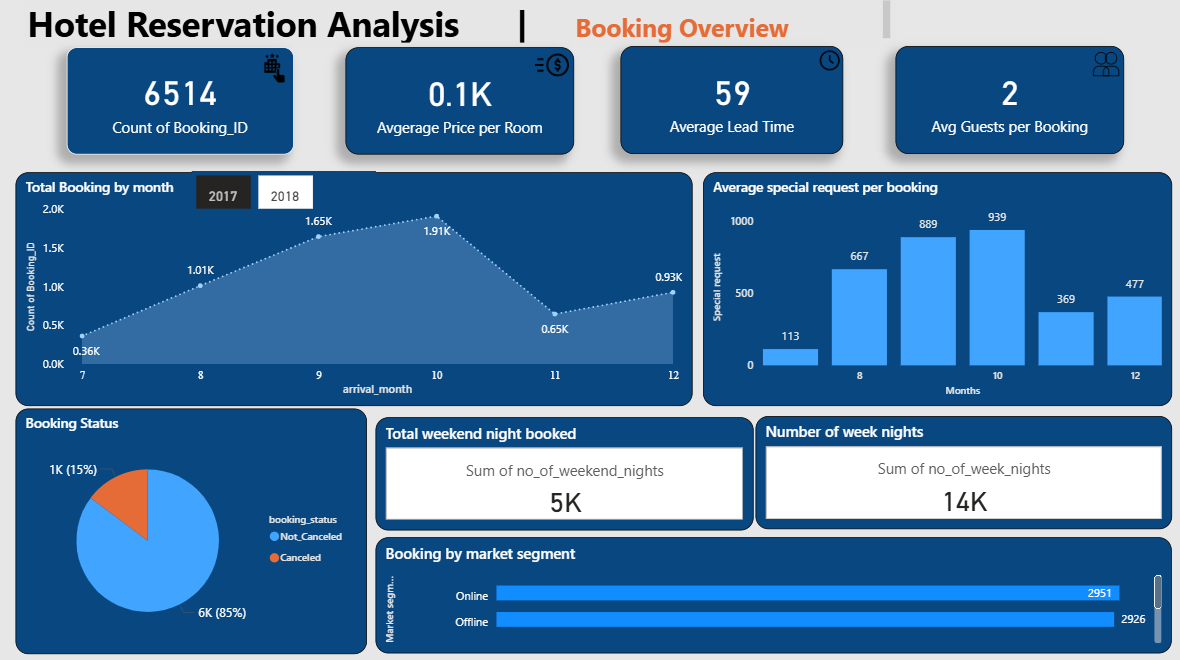

What the dashboard file says about the page in this screenshot:
{"tool":"powerbi","page":{"name":"Booking","canvas":[1280,720],"ordinal":0},"visuals":[{"type":"textbox","box":[26.9,0,942.8,55],"z":0},{"type":"card","fields":{"Values":["CountNonNull(Hotel Reservation Analysis.Booking_ID)"]},"box":[74.6,55,245.8,116.2],"z":1000},{"type":"card","fields":{"Values":["Hotel Reservation Analysis.Avgerage Price per Room"]},"box":[375.4,55,247,116.2],"z":2000},{"type":"image","box":[531.9,51.4,132.1,46.5],"z":3000},{"type":"card","fields":{"Values":["Hotel Reservation Analysis.Average Lead Time"]},"box":[673.4,54.4,240.5,116.5],"z":4000},{"type":"image","box":[867.1,54.4,63.3,31.6],"z":5000},{"type":"card","fields":{"Values":["Hotel Reservation Analysis.Avg Guests per Booking"]},"box":[969.6,54.4,246.8,116.5],"z":6000},{"type":"image","box":[258,55,81.9,45.2],"z":7000},{"type":"lineChart","title":"Total Booking by month","fields":{"Category":["Hotel Reservation Analysis.arrival_month"],"Y":["CountNonNull(Hotel Reservation Analysis.Booking_ID)"]},"box":[19,189.9,731.6,253.2],"z":8000},{"type":"advancedSlicerVisual","fields":{"Values":["Hotel Reservation Analysis.arrival_year"]},"box":[209.1,189.5,199.3,46.5],"z":9000},{"type":"image","box":[1116.5,54.4,153.2,39.2],"z":10000},{"type":"image","box":[1126.6,54.4,153.2,39.2],"z":11000},{"type":"pieChart","title":"Booking Status","fields":{"Y":["CountNonNull(Hotel Reservation Analysis.Booking_ID)"],"Category":["Hotel Reservation Analysis.booking_status"]},"box":[19.6,446.3,380.3,265.4],"z":12000},{"type":"columnChart","title":"Average special request per booking","fields":{"Y":["Sum(Hotel Reservation Analysis.no_of_special_requests)"],"Category":["Hotel Reservation Analysis.arrival_month"]},"box":[762,189.9,507.6,253.2],"z":13000},{"type":"cardVisual","title":"Total weekend night booked  ","fields":{"Data":["Sum(Hotel Reservation Analysis.no_of_weekend_nights)"]},"box":[408.4,454.9,408.4,122.3],"z":14000},{"type":"cardVisual","title":"Number of week nights","fields":{"Data":["Sum(Hotel Reservation Analysis.no_of_week_nights)"]},"box":[819,454.4,450.6,122.8],"z":15000},{"type":"clusteredBarChart","title":"Booking by market segment","fields":{"Category":["Hotel Reservation Analysis.market_segment_type"],"Y":["CountNonNull(Hotel Reservation Analysis.Booking_ID)"]},"box":[408.4,585.7,860.9,126],"z":16000}]}

Visuals, with their boxes in screenshot pixels (x1, y1, x2, y2), scaled from the page's 1280x720 canvas onto the 1180x660 screenshot:
textbox: (left=25, top=0, right=894, bottom=50)
card - CountNonNull(Hotel Reservation Analysis.Booking_ID): (left=69, top=50, right=295, bottom=157)
card - Hotel Reservation Analysis.Avgerage Price per Room: (left=346, top=50, right=574, bottom=157)
image: (left=490, top=47, right=612, bottom=90)
card - Hotel Reservation Analysis.Average Lead Time: (left=621, top=50, right=843, bottom=157)
image: (left=799, top=50, right=858, bottom=79)
card - Hotel Reservation Analysis.Avg Guests per Booking: (left=894, top=50, right=1121, bottom=157)
image: (left=238, top=50, right=313, bottom=92)
"Total Booking by month" lineChart: (left=18, top=174, right=692, bottom=406)
advancedSlicerVisual - Hotel Reservation Analysis.arrival_year: (left=193, top=174, right=376, bottom=216)
image: (left=1029, top=50, right=1171, bottom=86)
image: (left=1039, top=50, right=1179, bottom=86)
"Booking Status" pieChart: (left=18, top=409, right=369, bottom=652)
"Average special request per booking" columnChart: (left=702, top=174, right=1170, bottom=406)
"Total weekend night booked  " cardVisual: (left=376, top=417, right=753, bottom=529)
"Number of week nights" cardVisual: (left=755, top=417, right=1170, bottom=529)
"Booking by market segment" clusteredBarChart: (left=376, top=537, right=1170, bottom=652)
